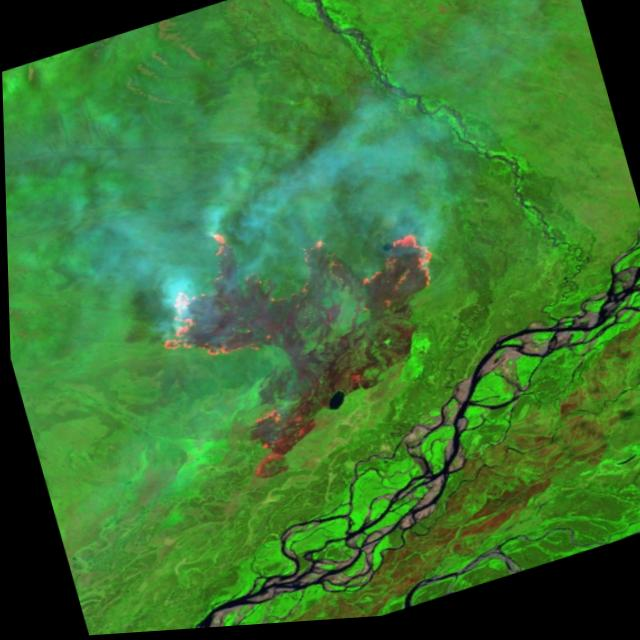fire: (127, 224, 274, 383), (343, 228, 446, 317), (240, 404, 298, 459), (292, 233, 335, 272)
